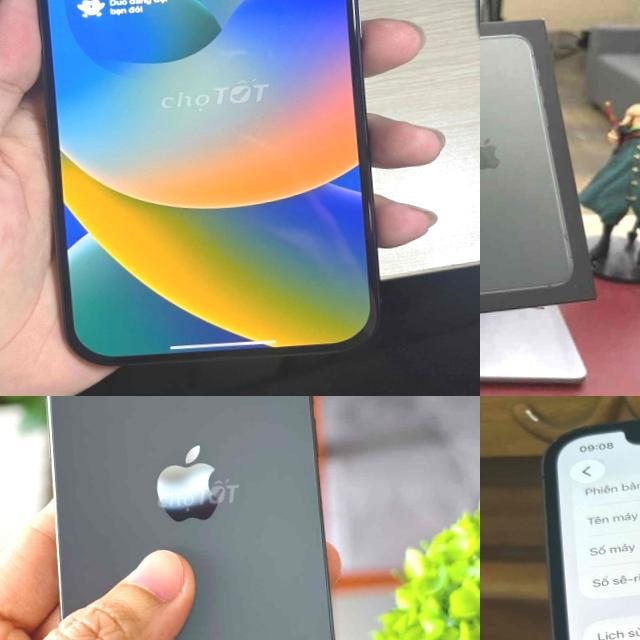gen_12_13: (531, 396, 640, 640)
gen_15: (0, 0, 398, 392)
gen_16: (14, 396, 348, 640)
